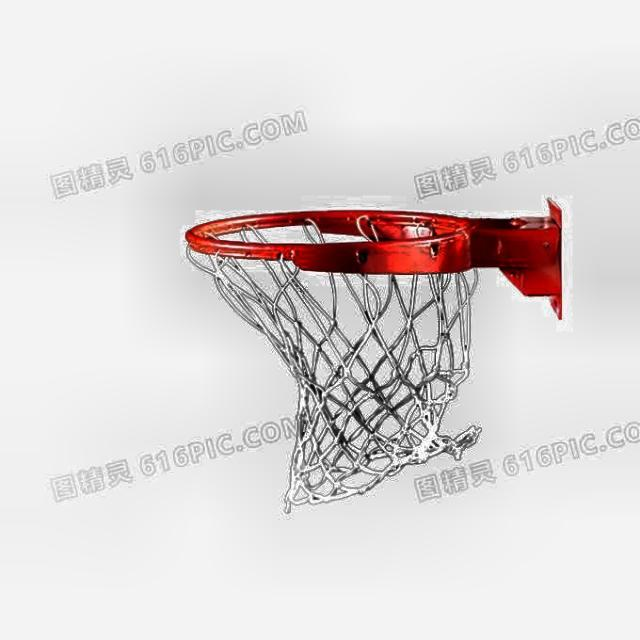rim: (187, 209, 479, 503)
